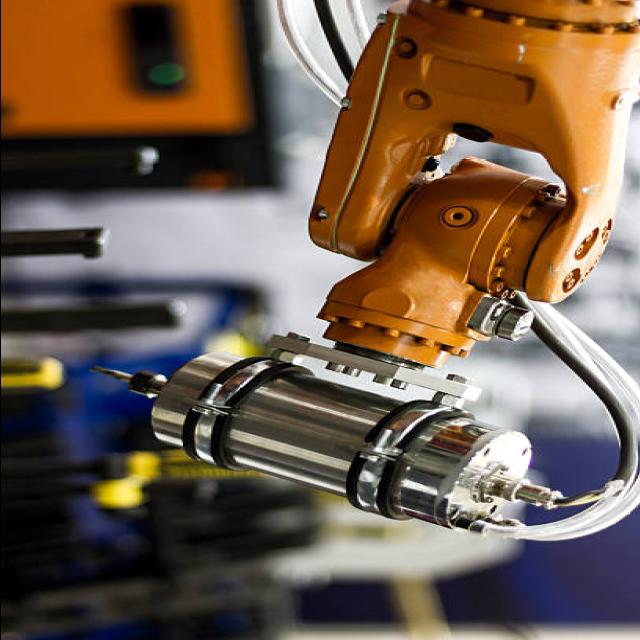Robotic-arm: (278, 0, 640, 371)
